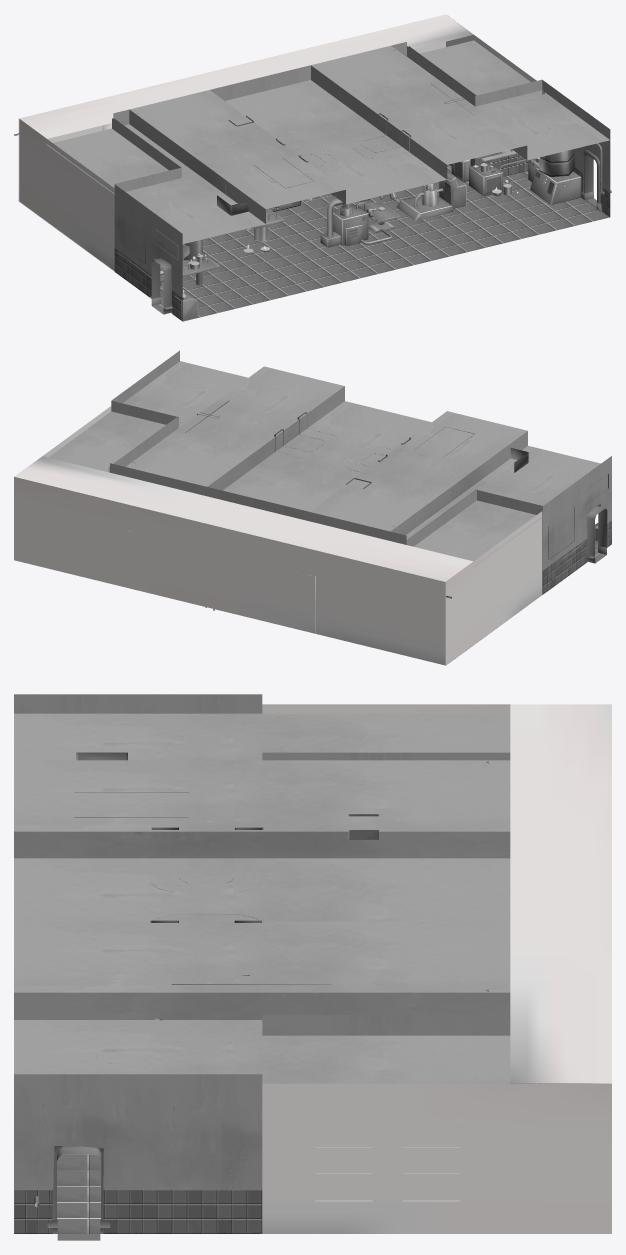
File: MSH_Science_Lab_room_L3_R3_optimized.fbx
3 views of the same model, one above another, from view 1: azimuth 30°, elevation 25°; view 2: azimuth 150°, elevation 25°; view 3: azimuth 270°, elevation 25° (orthographic). The views are drawn at different scales.
Visible parts, largest first — view 1: lightmap0, lightmap1, lightmap-1; view 2: lightmap0, lightmap-1, lightmap1; view 3: lightmap0, lightmap1.
Part boxes in pixels (bbox=[...]): lightmap0: bbox=[14, 14, 610, 321]; lightmap1: bbox=[102, 50, 611, 320]; lightmap-1: bbox=[151, 154, 596, 314]; lightmap0: bbox=[14, 350, 611, 665]; lightmap-1: bbox=[587, 506, 607, 563]; lightmap1: bbox=[133, 400, 611, 633]; lightmap0: bbox=[14, 694, 611, 1233]; lightmap1: bbox=[34, 752, 611, 1228].
Bounding box in the file's own units: 30.91 × 6.46 × 19.9.
8 materials, 8 textured.
